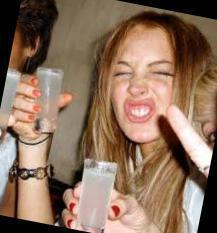Drunk: (108, 26, 177, 141)
